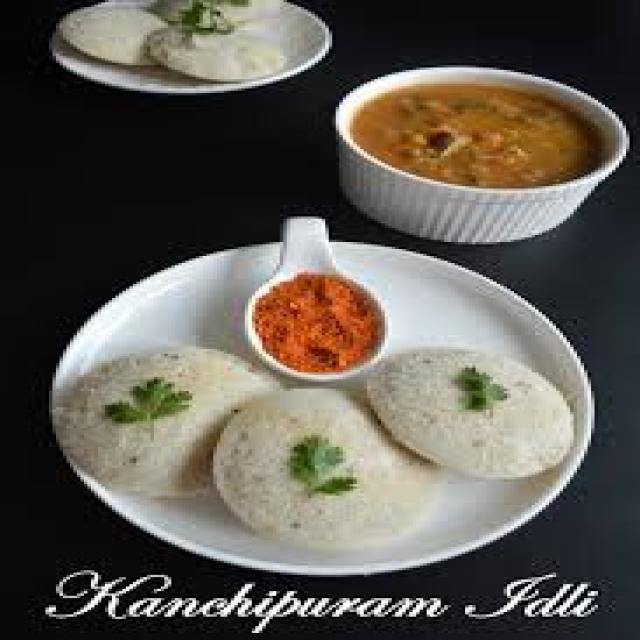IDLI: (213, 389, 430, 547), (52, 347, 273, 496), (364, 349, 570, 477)
